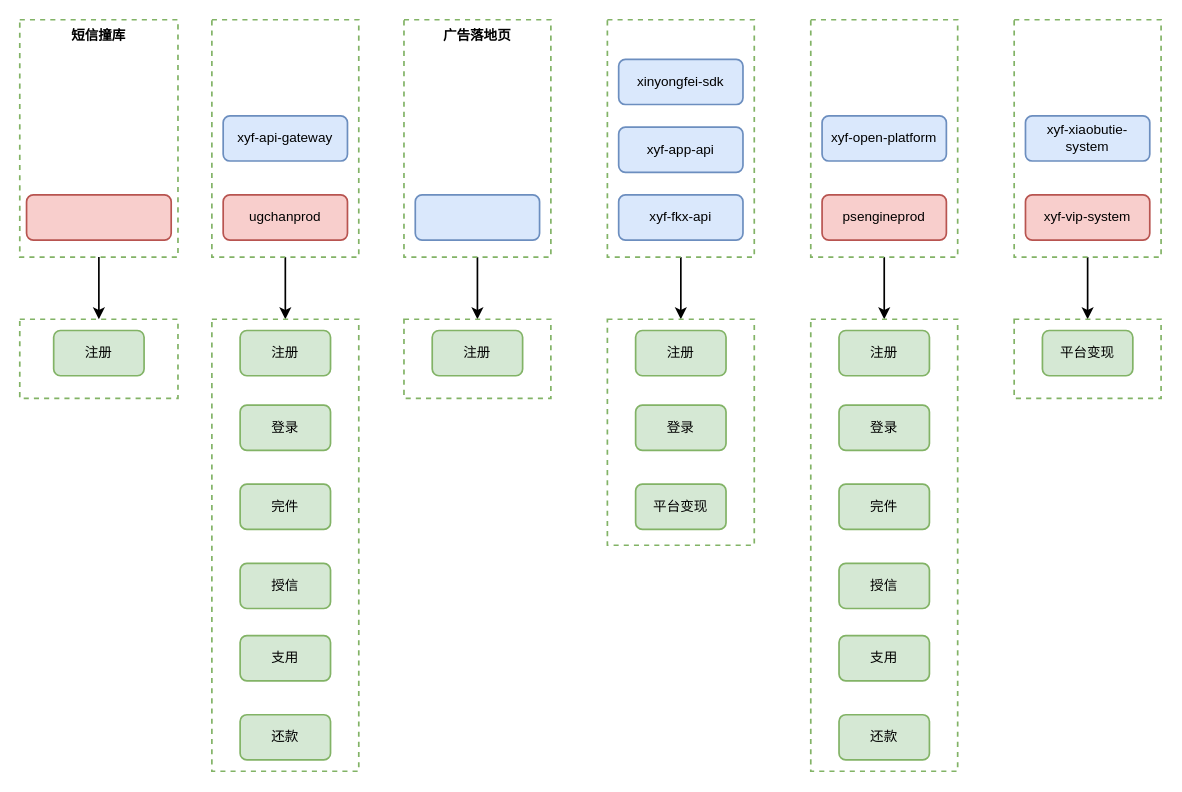
The diagram is 1182 pixels wide and 792 high, and some of its shapes have lost their labels. The box of each missing label's shape, as (x1, y1, x2, y2) in pixels:
xyf-flow-system: (414, 194, 540, 240)
xyf-union-notify-java: (25, 194, 172, 240)
信飞app: (606, 18, 755, 257)
客户产品中心: (809, 18, 958, 257)
权益系统: (1013, 18, 1161, 257)
渠道引流: (211, 18, 359, 257)
